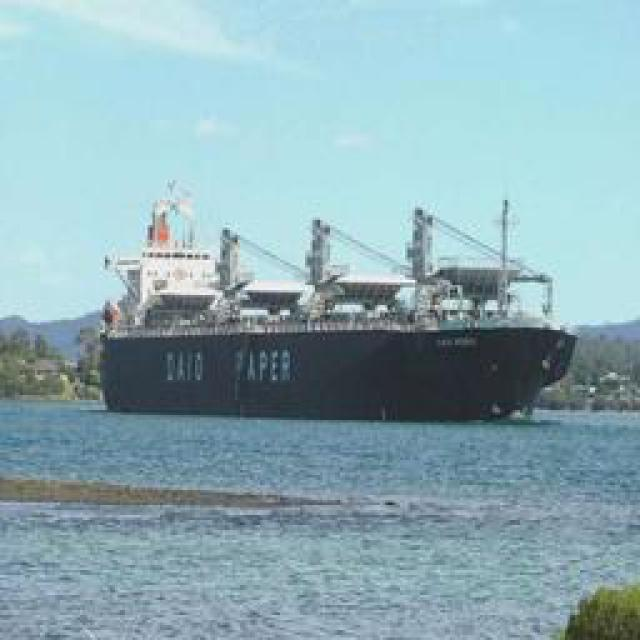Ship: (65, 177, 580, 425)
